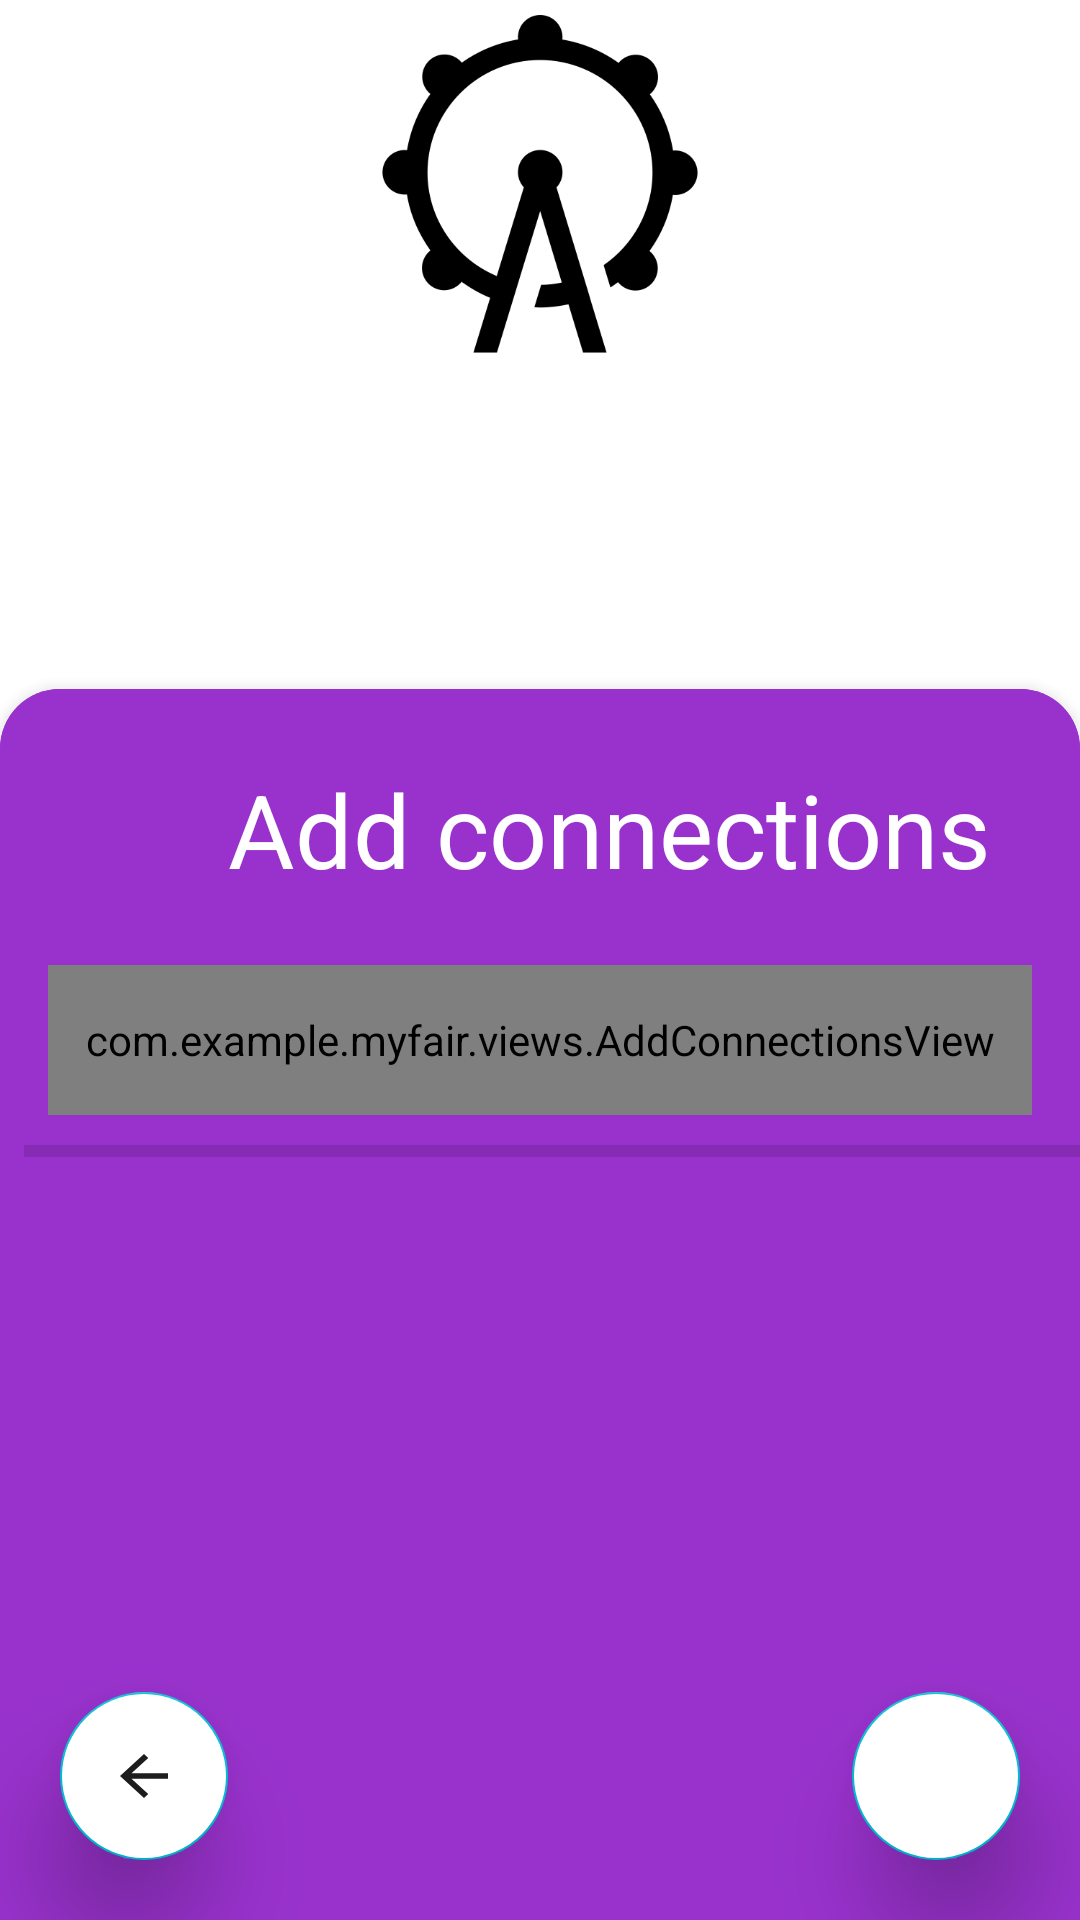

Where to tap for icons on this 1080w x 1920h app screen, as (x=x, y=y):
back arrow: (x=144, y=1776)
